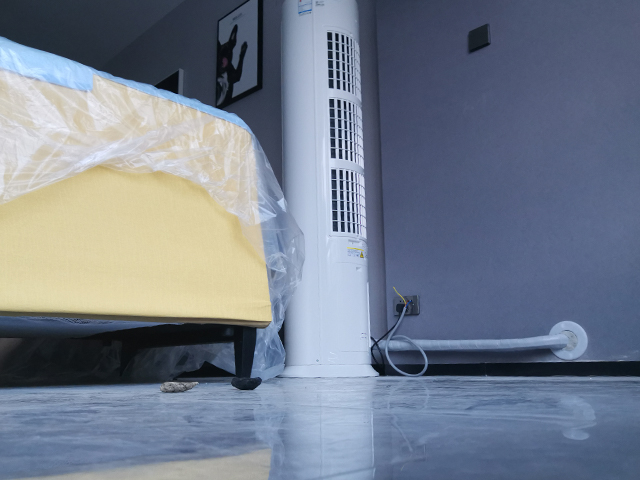feces: (157, 380, 200, 395), (230, 375, 263, 391)
sofa: (1, 36, 276, 384)
wire: (369, 285, 430, 379)
